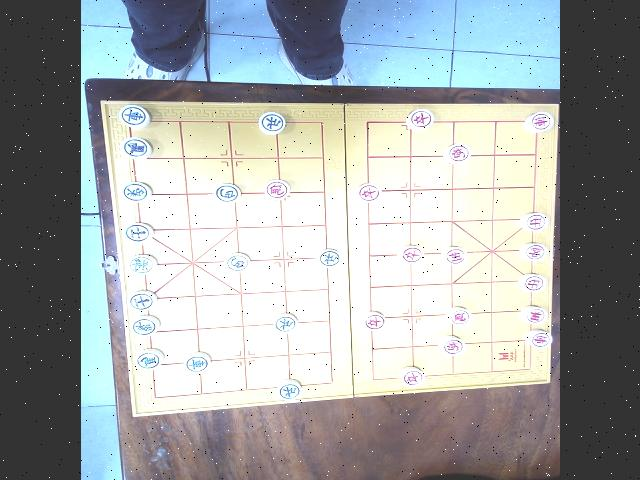piece: (118, 105, 149, 127), (120, 137, 151, 159), (121, 181, 151, 201), (135, 348, 163, 369), (523, 112, 552, 132), (127, 290, 156, 310), (258, 112, 284, 134), (442, 143, 470, 163), (128, 254, 156, 274), (405, 109, 433, 129), (124, 222, 153, 241), (184, 351, 210, 372), (213, 183, 240, 203), (131, 316, 159, 335), (264, 179, 290, 199), (519, 305, 546, 324), (524, 329, 551, 348), (354, 183, 381, 202), (517, 273, 545, 291), (519, 212, 547, 230), (277, 379, 301, 400), (399, 366, 424, 386), (359, 311, 385, 330), (438, 335, 464, 354), (444, 307, 471, 325), (440, 246, 467, 264), (519, 243, 547, 260), (225, 252, 250, 271), (396, 245, 423, 262), (273, 313, 297, 332), (316, 249, 340, 267)
